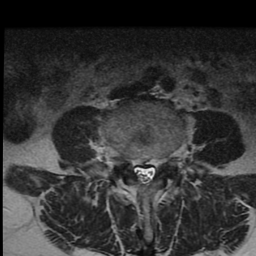CCS_stenosis: (140, 147, 148, 194)
LFS_stenosis: (157, 146, 166, 177)
LLS_normal: (148, 148, 157, 186)
RFS_stenosis: (123, 146, 132, 177)
RLS_normal: (132, 148, 140, 186)
